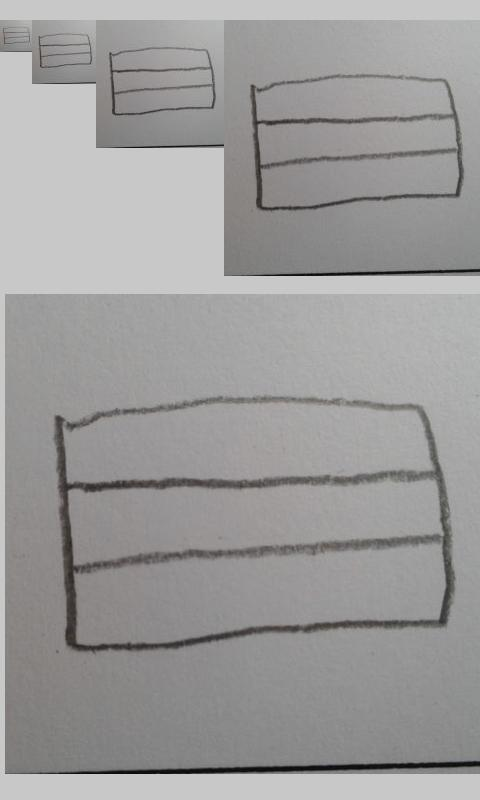list_view: (52, 392, 455, 656), (248, 73, 466, 212), (108, 45, 217, 117), (38, 32, 92, 68), (3, 26, 31, 45)
